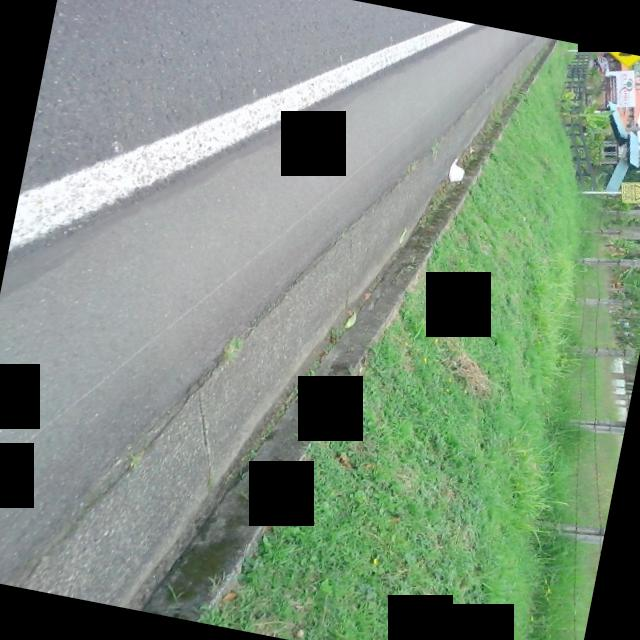DITCH: (0, 0, 640, 640), (0, 0, 561, 640), (0, 0, 555, 640)
